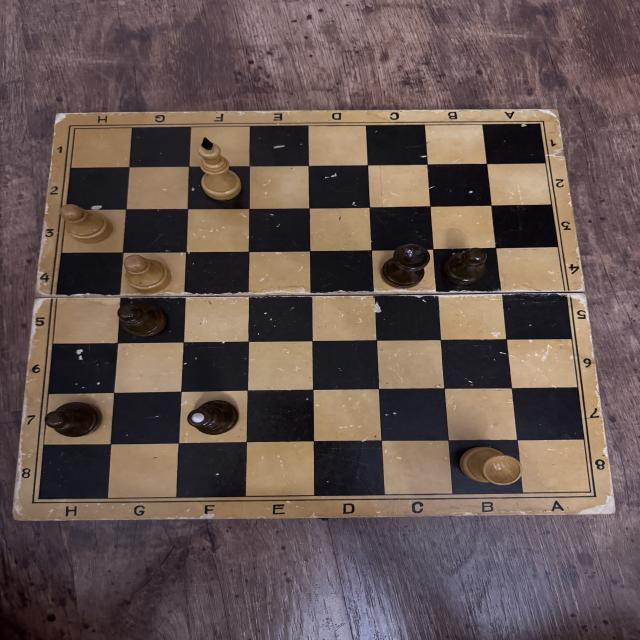black-king: (185, 400, 242, 436)
black-pawn: (111, 300, 168, 338), (44, 400, 102, 437), (442, 248, 492, 288)
black-rook: (378, 243, 432, 290)
white-king: (194, 137, 244, 201)
white-pawn: (57, 202, 113, 243), (122, 256, 171, 294)
white-rook: (460, 446, 522, 486)
